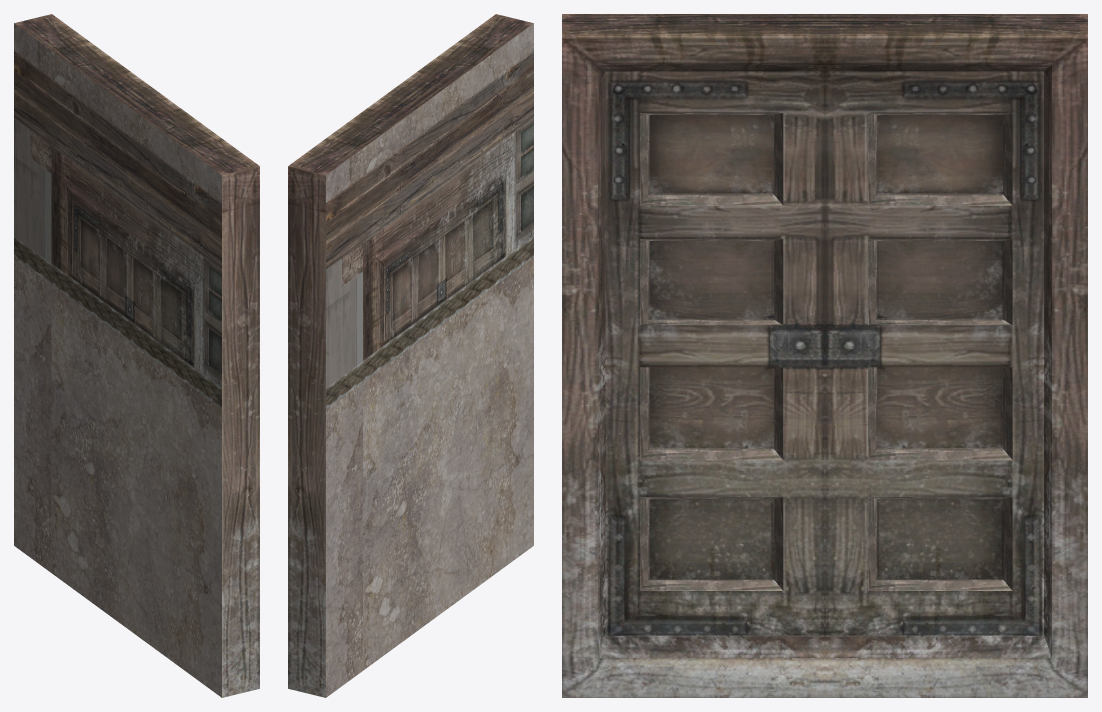
The model's file is bg_eud_common_housedoor01_sm_ysi.FBX.
3 views of the same model, side by side, from view 1: azimuth 30°, elevation 25°; view 2: azimuth 150°, elevation 25°; view 3: azimuth 270°, elevation 25° (orthographic). The views are drawn at different scales.
Parts seen in each view (by area): view 1: bg_eud_common_housedoor01_sm_ysi; view 2: bg_eud_common_housedoor01_sm_ysi; view 3: bg_eud_common_housedoor01_sm_ysi.
Part boxes in pixels (<box>): bg_eud_common_housedoor01_sm_ysi: <box>14,14,259,697</box>; bg_eud_common_housedoor01_sm_ysi: <box>288,14,533,697</box>; bg_eud_common_housedoor01_sm_ysi: <box>562,14,1087,697</box>.
Size of the model in its own units: 15 by 198 by 143.
